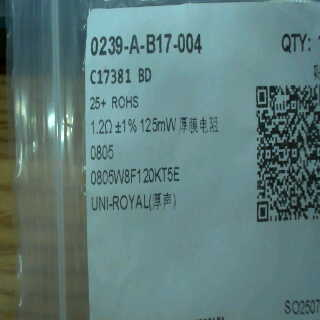1.2R: (89, 117, 116, 159)
